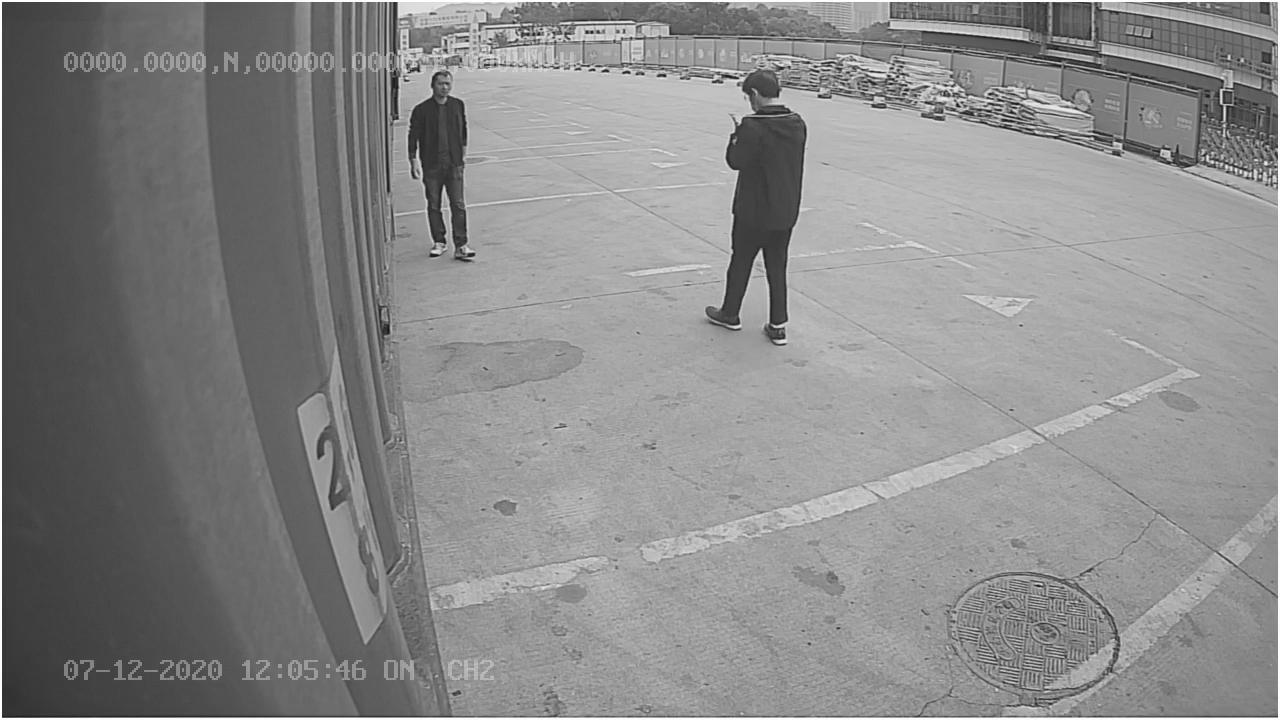person: (702, 67, 814, 350)
